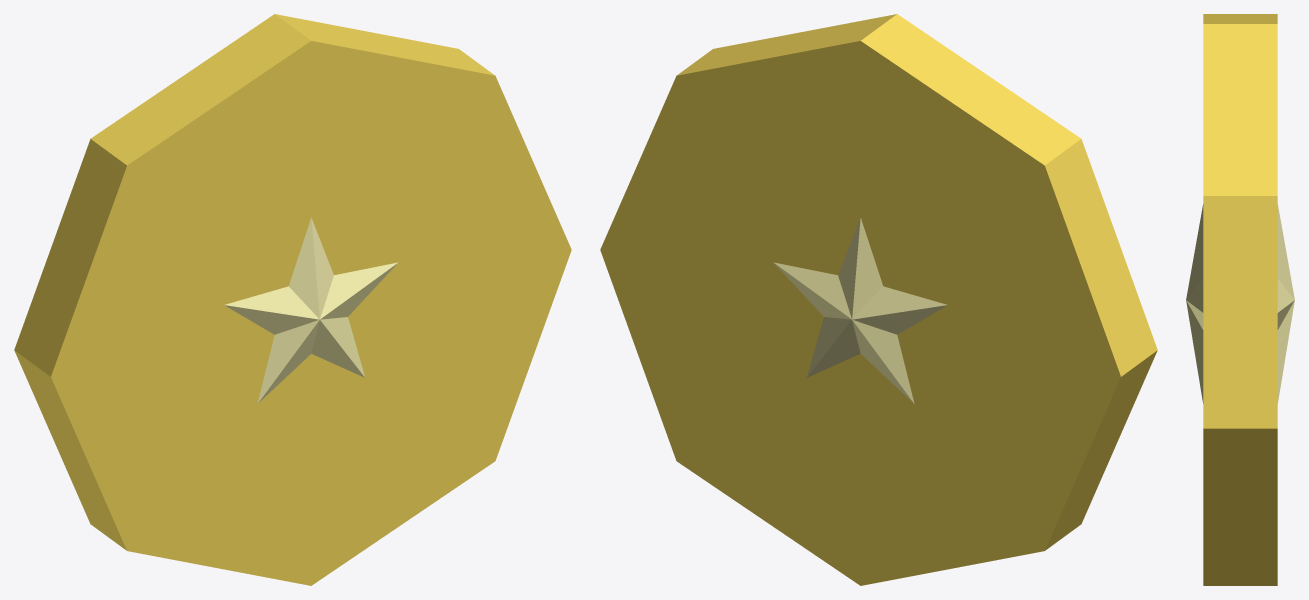
Rendered from EnergyStarCoin.fbx.
The picture shows the model from 3 angles, left to right: view 1: azimuth 30°, elevation 25°; view 2: azimuth 150°, elevation 25°; view 3: azimuth 270°, elevation 25°; orthographic projection.
Visible parts, largest first — view 1: Coin_Rim, Coin_Star_Front; view 2: Coin_Rim, Coin_Star_Back; view 3: Coin_Rim, Coin_Star_Back, Coin_Star_Front.
Part boxes in pixels (<box>): Coin_Rim: <box>14,14,571,585</box>; Coin_Star_Front: <box>224,217,398,403</box>; Coin_Rim: <box>600,14,1157,585</box>; Coin_Star_Back: <box>773,217,947,403</box>; Coin_Rim: <box>1203,14,1277,585</box>; Coin_Star_Back: <box>1277,204,1294,403</box>; Coin_Star_Front: <box>1186,204,1203,403</box>.
Bounding box in the file's own units: 24.6 × 24.6 × 4.4.
